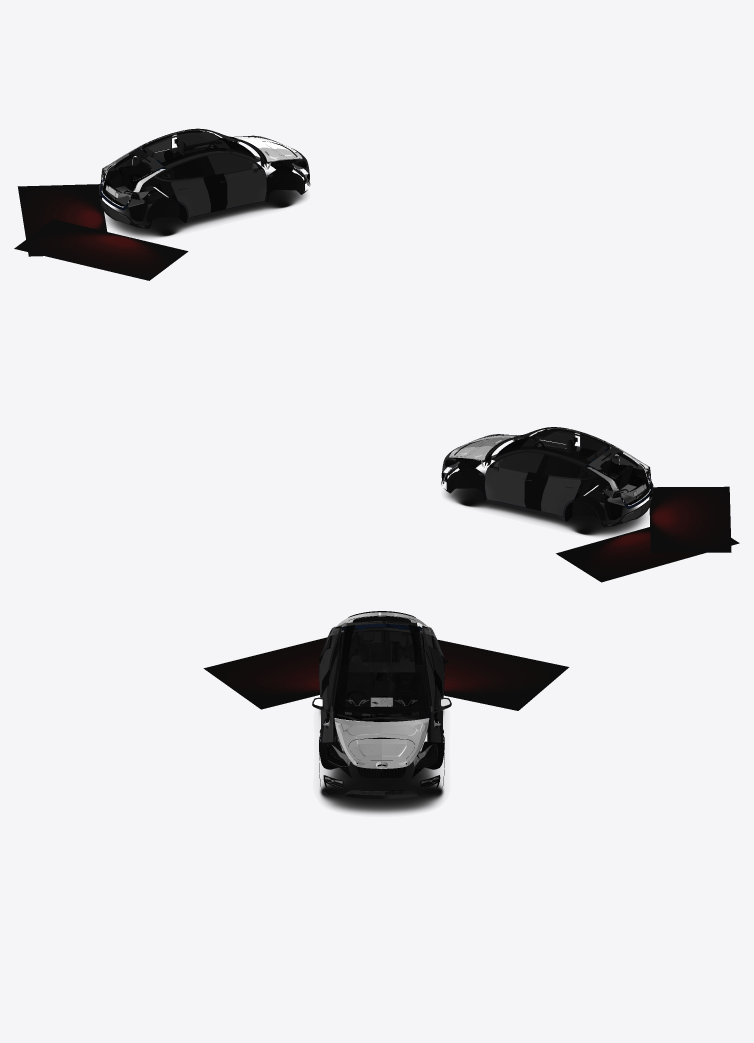
The model's file is ModelY_High.glb.
The picture shows the model from 3 angles, top to bottom: view 1: azimuth 30°, elevation 25°; view 2: azimuth 150°, elevation 25°; view 3: azimuth 270°, elevation 25°; orthographic projection. The views are drawn at different scales.
Parts seen in each view (by area): view 1: Taillights_Projection, Body, Floor, Interior_Body, Door_RF, Door_RR, Hood, Trunk, Window_RF, Interior_7_seater, Windows_Top, Window_RR; view 2: Taillights_Projection, Body, Floor, Interior_Body, Door_LF, Door_LR, Hood, Trunk, Window_LF, Windows_Top, Interior_7_seater, Window_LR; view 3: Taillights_Projection, Body, Floor, Hood, Interior_Body, Windows_Top, Interior_5_seater_Color, Seat_Top_LF_Color, Seat_Top_RF_Color, Trunk.
Part boxes in pixels (x1,y1,x2,y2): Taillights_Projection: (14,184,188,280); Body: (99,128,310,228); Floor: (105,173,306,237); Interior_Body: (103,131,260,221); Door_RF: (212,160,266,210); Door_RR: (171,175,218,217); Hood: (233,137,302,169); Trunk: (99,147,165,208); Window_RF: (207,154,251,174); Interior_7_seater: (119,161,177,204); Windows_Top: (139,129,267,166); Window_RR: (171,157,208,179); Taillights_Projection: (556,486,739,582); Body: (441,427,653,527); Floor: (445,471,646,536); Interior_Body: (491,429,649,519); Door_LF: (485,458,539,509); Door_LR: (533,474,581,516); Hood: (449,435,518,467); Trunk: (586,446,652,507); Window_LF: (500,452,544,472); Windows_Top: (484,427,612,464); Interior_7_seater: (574,459,633,503); Window_LR: (543,455,580,478); Taillights_Projection: (203,637,569,710); Body: (319,622,444,798); Floor: (319,710,444,813); Hood: (334,718,429,771); Interior_Body: (332,627,431,751); Windows_Top: (335,625,428,719); Interior_5_seater_Color: (349,635,414,696); Seat_Top_LF_Color: (389,655,422,706); Seat_Top_RF_Color: (341,655,374,706); Trunk: (334,612,429,628).
Bounding box in the file's own units: 14.7 × 1.62 × 11.06.
60 materials, 33 textured.
